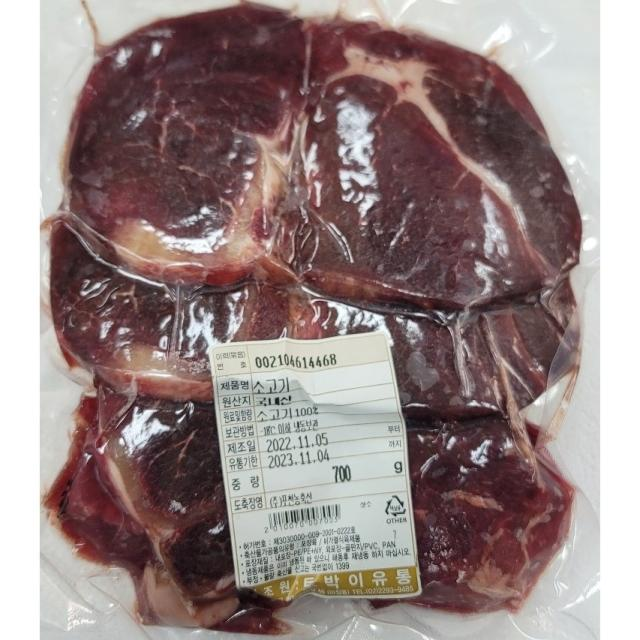beef: (102, 28, 479, 302)
